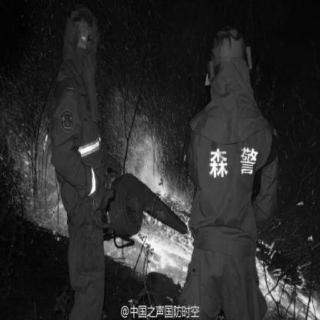other: (204, 135, 258, 183)
